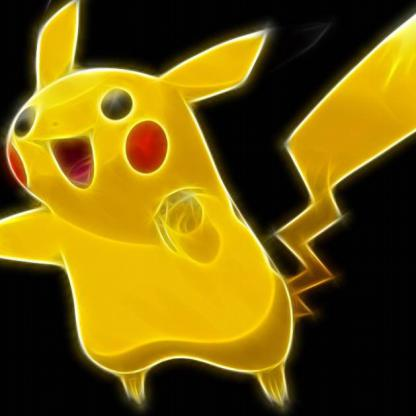Pikachu: (13, 10, 416, 416)
